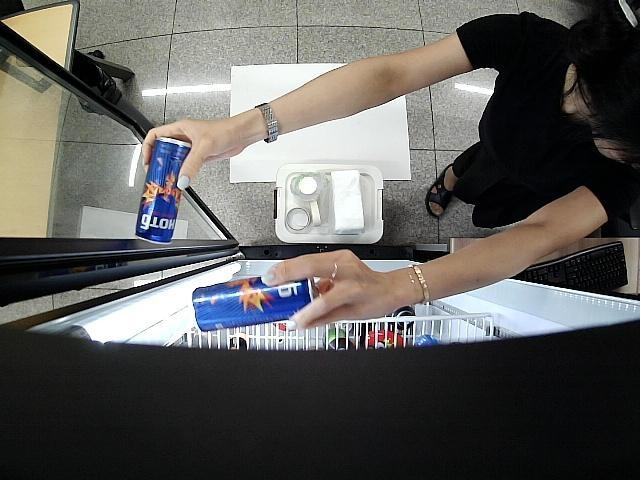16_hot6: (192, 272, 320, 333), (134, 135, 192, 248)
